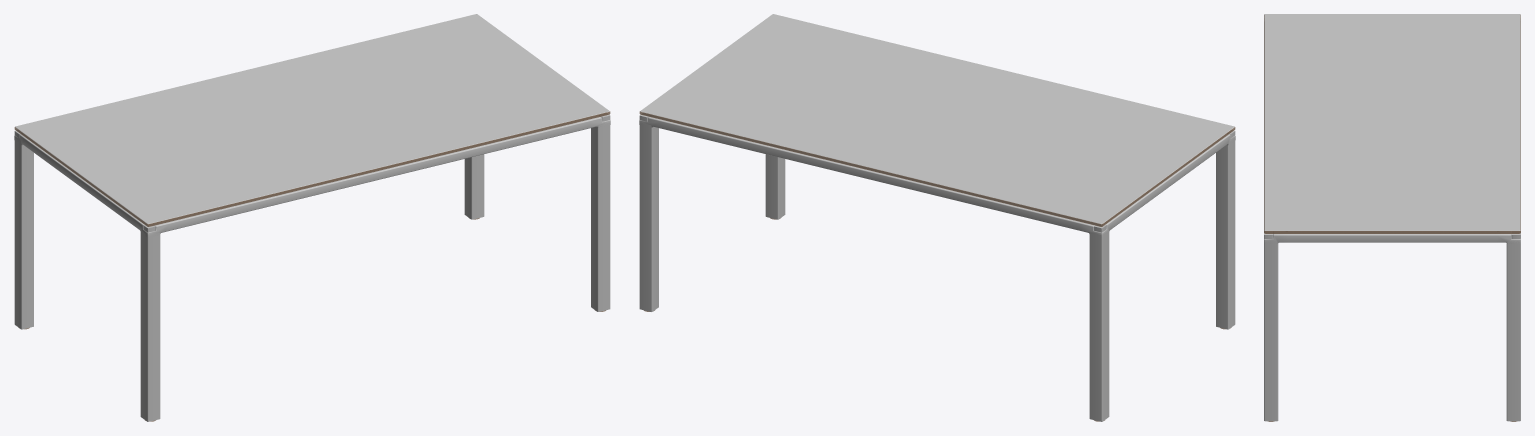
The model's file is table2.obj.
3 views of the same model, side by side, from view 1: azimuth 30°, elevation 25°; view 2: azimuth 150°, elevation 25°; view 3: azimuth 270°, elevation 25° (orthographic). The views are drawn at different scales.
Parts seen in each view (by area): view 1: mesh30_mesh30-geometry, mesh12_mesh12-geometry, mesh4_mesh4-geometry, mesh2_mesh2-geometry, mesh8_mesh8-geometry, mesh26_mesh26-geometry, mesh10_mesh10-geometry, mesh6_mesh6-geometry, mesh35_mesh35-geometry; view 2: mesh30_mesh30-geometry, mesh9_mesh9-geometry, mesh8_mesh8-geometry, mesh6_mesh6-geometry, mesh4_mesh4-geometry, mesh28_mesh28-geometry, mesh10_mesh10-geometry, mesh2_mesh2-geometry, mesh38_mesh38-geometry; view 3: mesh30_mesh30-geometry, mesh2_mesh2-geometry, mesh6_mesh6-geometry, mesh11_mesh11-geometry, mesh25_mesh25-geometry, mesh35_mesh35-geometry, mesh38_mesh38-geometry, mesh36_mesh36-geometry, mesh37_mesh37-geometry.
Part boxes in pixels (x1,y1,x2,y2): mesh30_mesh30-geometry: (16, 14, 607, 223); mesh12_mesh12-geometry: (166, 118, 589, 230); mesh4_mesh4-geometry: (140, 230, 160, 421); mesh2_mesh2-geometry: (591, 122, 610, 311); mesh8_mesh8-geometry: (14, 138, 33, 329); mesh26_mesh26-geometry: (149, 112, 609, 226); mesh10_mesh10-geometry: (26, 139, 138, 226); mesh6_mesh6-geometry: (464, 154, 484, 219); mesh35_mesh35-geometry: (148, 111, 609, 223); mesh30_mesh30-geometry: (642, 14, 1233, 223); mesh9_mesh9-geometry: (660, 118, 1083, 230); mesh8_mesh8-geometry: (1089, 230, 1109, 421); mesh6_mesh6-geometry: (639, 122, 658, 311); mesh4_mesh4-geometry: (1216, 138, 1235, 329); mesh28_mesh28-geometry: (640, 112, 1100, 226); mesh10_mesh10-geometry: (1111, 139, 1223, 226); mesh2_mesh2-geometry: (765, 154, 785, 219); mesh38_mesh38-geometry: (640, 111, 1101, 223); mesh30_mesh30-geometry: (1265, 14, 1519, 230); mesh2_mesh2-geometry: (1264, 241, 1278, 421); mesh6_mesh6-geometry: (1506, 241, 1520, 421); mesh11_mesh11-geometry: (1288, 231, 1496, 242); mesh25_mesh25-geometry: (1265, 231, 1519, 233); mesh35_mesh35-geometry: (1264, 14, 1265, 230); mesh38_mesh38-geometry: (1519, 14, 1520, 230); mesh36_mesh36-geometry: (1265, 14, 1519, 14); mesh37_mesh37-geometry: (1265, 230, 1519, 230).
Size of the model in its own units: 0.8395 by 0.3451 by 0.4197.
